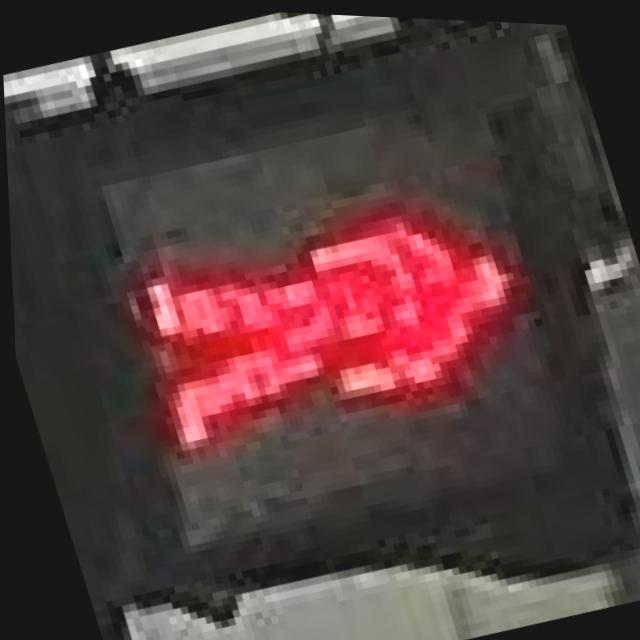red_light: (74, 80, 605, 593)
